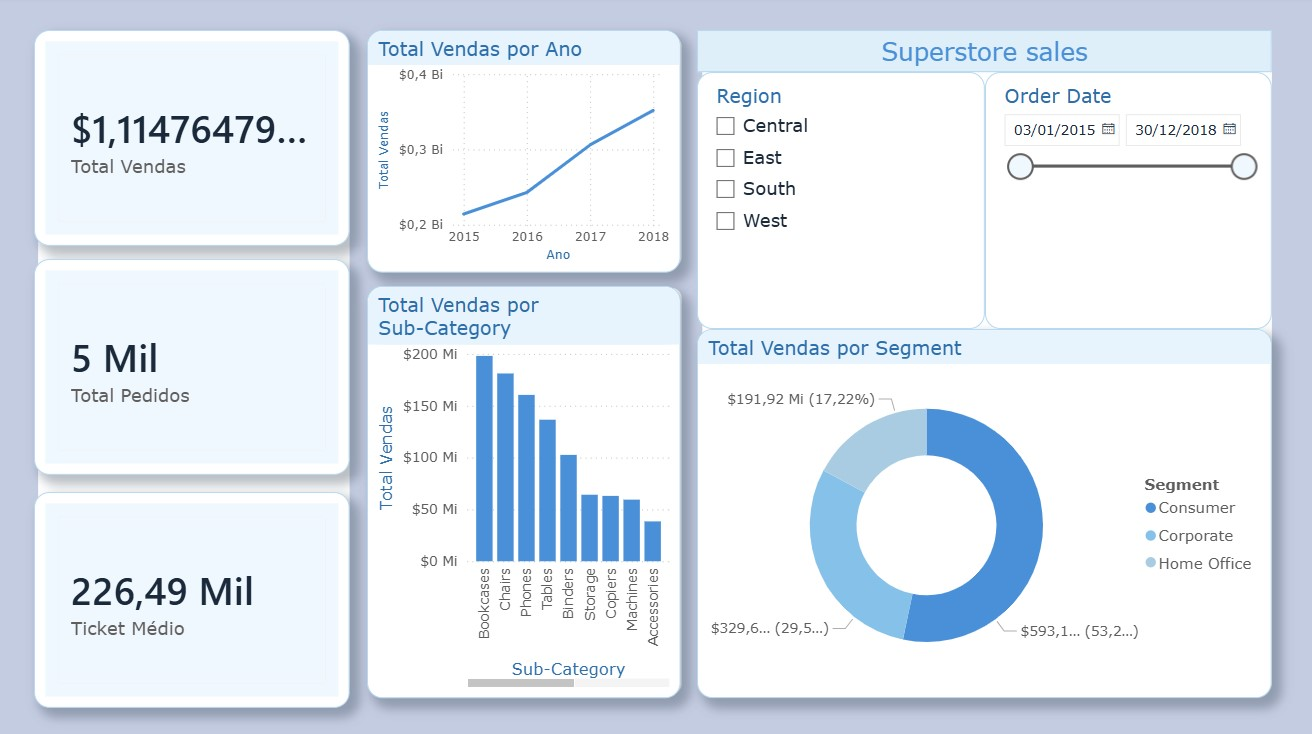

What the dashboard file says about the page in this screenshot:
{"tool":"powerbi","page":{"name":"Página 1","canvas":[1280,720],"ordinal":0},"visuals":[{"type":"cardVisual","fields":{"Data":["train.Total Vendas"]},"box":[36,32.1,307.4,210],"z":0},{"type":"cardVisual","fields":{"Data":["train.Total Pedidos"]},"box":[36,254.8,307.4,210.1],"z":1000},{"type":"cardVisual","fields":{"Data":["train.Ticket Médio"]},"box":[36,481.5,307.4,210],"z":2000},{"type":"lineChart","fields":{"Category":["train.Order Date.Variation.Hierarquia de datas.Ano","train.Order Date.Variation.Hierarquia de datas.Trimestre","train.Order Date.Variation.Hierarquia de datas.Mês","train.Order Date.Variation.Hierarquia de datas.Dia"],"Y":["train.Total Vendas"]},"box":[359.9,32.1,305.4,236.4],"z":3000},{"type":"clusteredColumnChart","fields":{"Category":["train.Sub-Category"],"Y":["train.Total Vendas"]},"box":[359.9,281.1,305.4,400.7],"z":3001},{"type":"donutChart","fields":{"Category":["train.Segment"],"Y":["train.Total Vendas"]},"box":[680.9,322.9,559.3,358.9],"z":3002},{"type":"textbox","box":[680.9,32.1,559.3,40.9],"z":3003},{"type":"slicer","fields":{"Values":["train.Region"]},"box":[680.9,72.9,280.1,250],"z":3004},{"type":"slicer","fields":{"Values":["train.Order Date"]},"box":[961,72.9,279.1,250],"z":3005}]}

Visuals, with their boxes in screenshot pixels (x1, y1, x2, y2), scaled from the page's 1280x720 canvas onto the 1312x734 screenshot:
cardVisual - train.Total Vendas: bbox=(37, 33, 352, 247)
cardVisual - train.Total Pedidos: bbox=(37, 260, 352, 474)
cardVisual - train.Ticket Médio: bbox=(37, 491, 352, 705)
lineChart - train.Order Date.Variation.Hierarquia de datas.Ano x train.Order Date.Variation.Hierarquia de datas.Trimestre: bbox=(369, 33, 682, 274)
clusteredColumnChart - train.Sub-Category x train.Total Vendas: bbox=(369, 287, 682, 695)
donutChart - train.Segment x train.Total Vendas: bbox=(698, 329, 1271, 695)
textbox: bbox=(698, 33, 1271, 74)
slicer - train.Region: bbox=(698, 74, 985, 329)
slicer - train.Order Date: bbox=(985, 74, 1271, 329)
